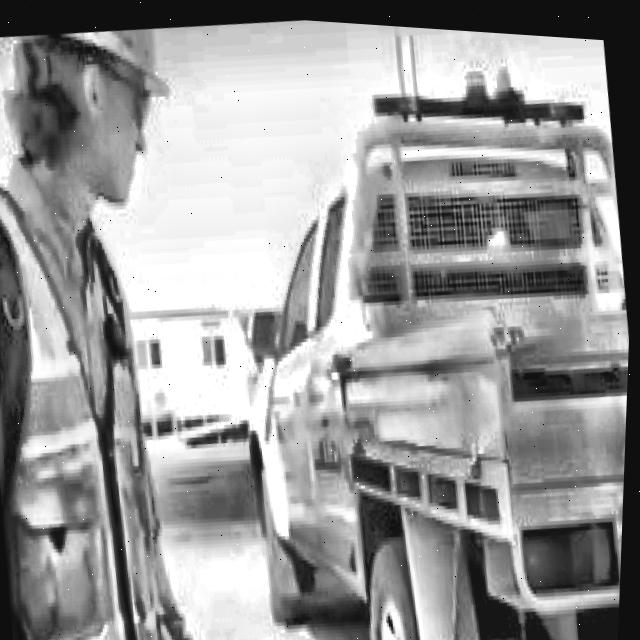light_vehicle: (211, 46, 639, 640)
